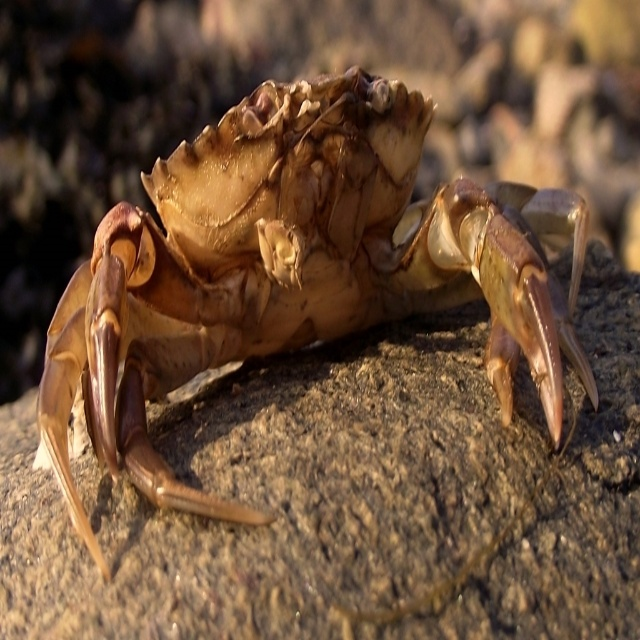Crab: (35, 63, 600, 589)
